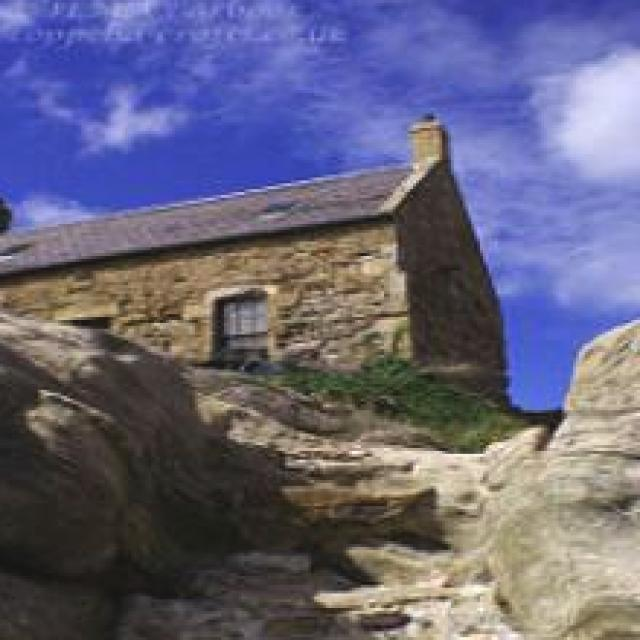upstair: (173, 414, 507, 640)
